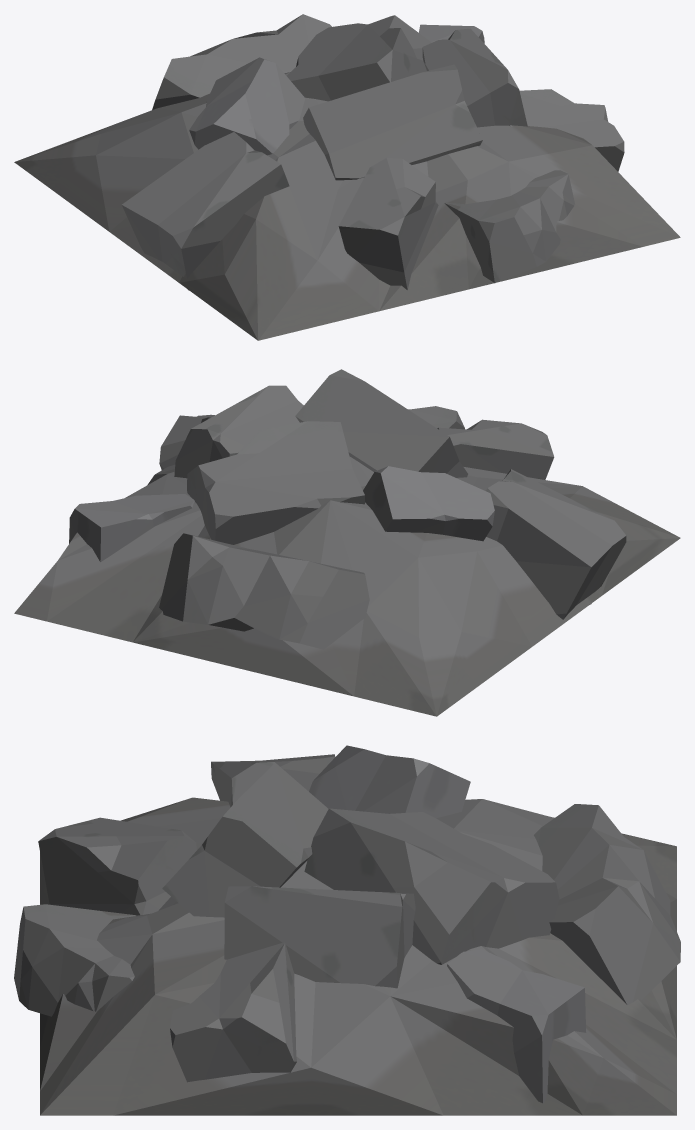
The model's file is SM_Bld_Tower_Damaged_Insert_02.fbx.
3 views of the same model, one above another, from view 1: azimuth 30°, elevation 25°; view 2: azimuth 150°, elevation 25°; view 3: azimuth 270°, elevation 25° (orthographic). The views are drawn at different scales.
Visible parts, largest first — view 1: SM_Bld_Tower_Damaged_Insert_02; view 2: SM_Bld_Tower_Damaged_Insert_02; view 3: SM_Bld_Tower_Damaged_Insert_02.
Boxes of the visible parts, box(x1,y1,x2,y2) form: SM_Bld_Tower_Damaged_Insert_02: box(14, 14, 680, 340); SM_Bld_Tower_Damaged_Insert_02: box(14, 369, 680, 716); SM_Bld_Tower_Damaged_Insert_02: box(14, 745, 680, 1115).
Size of the model in its own units: 486 by 181 by 479.
Materials: 1 (1 with a texture image).
